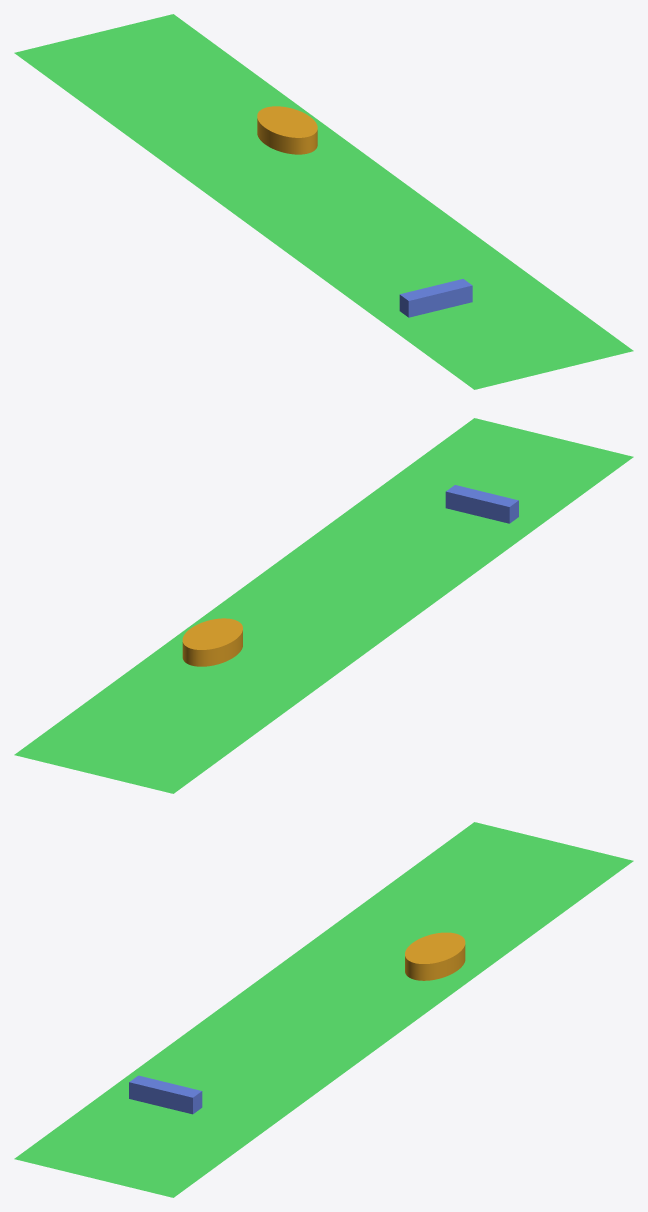
The model's file is stage2.glb.
3 views of the same model, one above another, from view 1: azimuth 30°, elevation 25°; view 2: azimuth 150°, elevation 25°; view 3: azimuth 330°, elevation 25° (orthographic).
Visible parts, largest first — view 1: ground, obstacle2, obstacle1; view 2: ground, obstacle2, obstacle1; view 3: ground, obstacle2, obstacle1.
Part boxes in pixels (x1,y1,x2,y2): ground: (14,14,633,389); obstacle2: (257,106,317,154); obstacle1: (399,279,472,317); ground: (14,418,633,793); obstacle2: (182,618,242,666); obstacle1: (445,485,518,523); ground: (14,822,633,1197); obstacle2: (405,932,465,980); obstacle1: (129,1075,202,1114).
Bounding box in the file's own units: 20 × 2 × 100.
